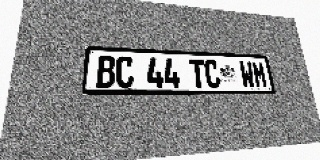4: (147, 57, 164, 88), (163, 58, 180, 88)
B: (96, 55, 116, 88)
C: (116, 56, 134, 88), (204, 60, 221, 88)
M: (251, 62, 268, 88)
T: (189, 59, 206, 88)
W: (239, 61, 256, 88)
